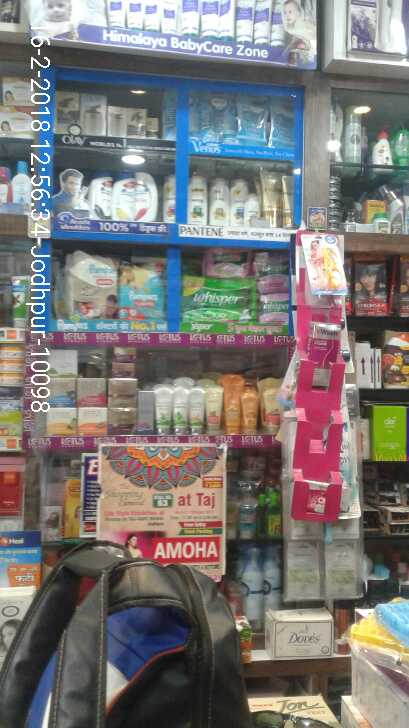venus: (237, 96, 268, 148), (204, 96, 236, 142), (268, 95, 295, 147)
